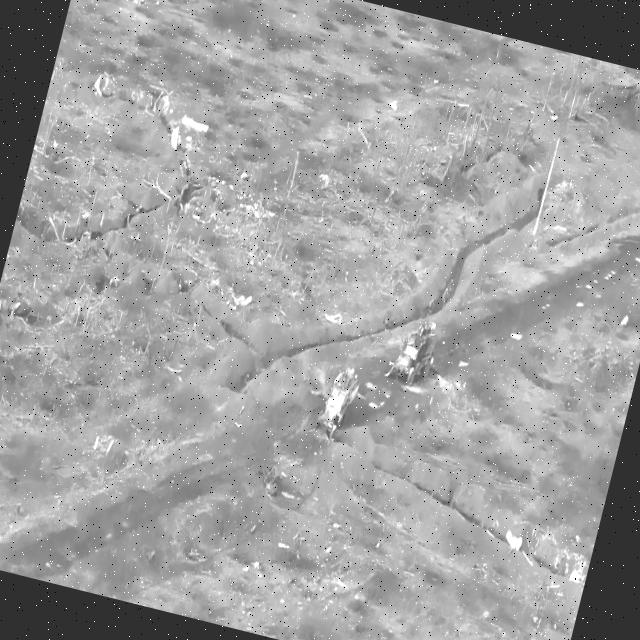Vehicle: (316, 364, 365, 441), (391, 317, 442, 389)
